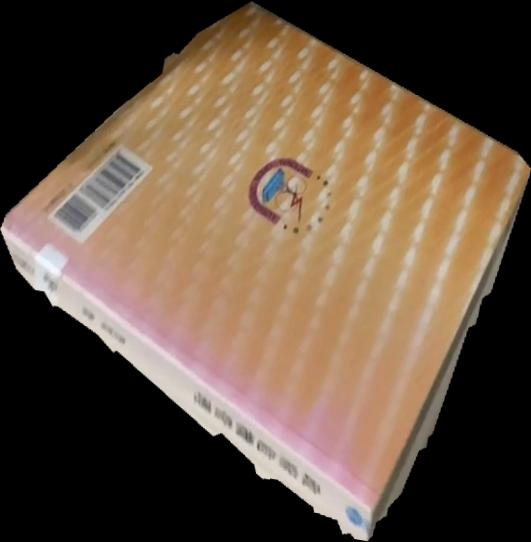flat: (1, 1, 531, 542)
